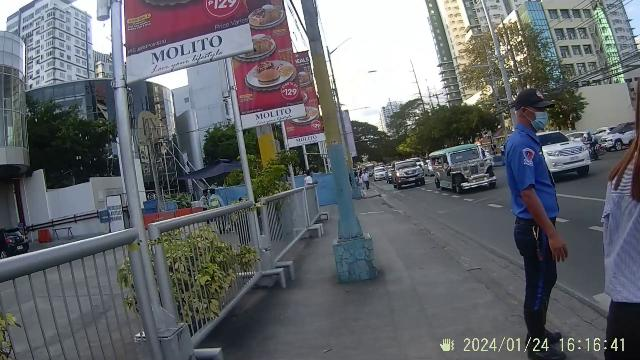utility_post: (287, 0, 391, 294)
